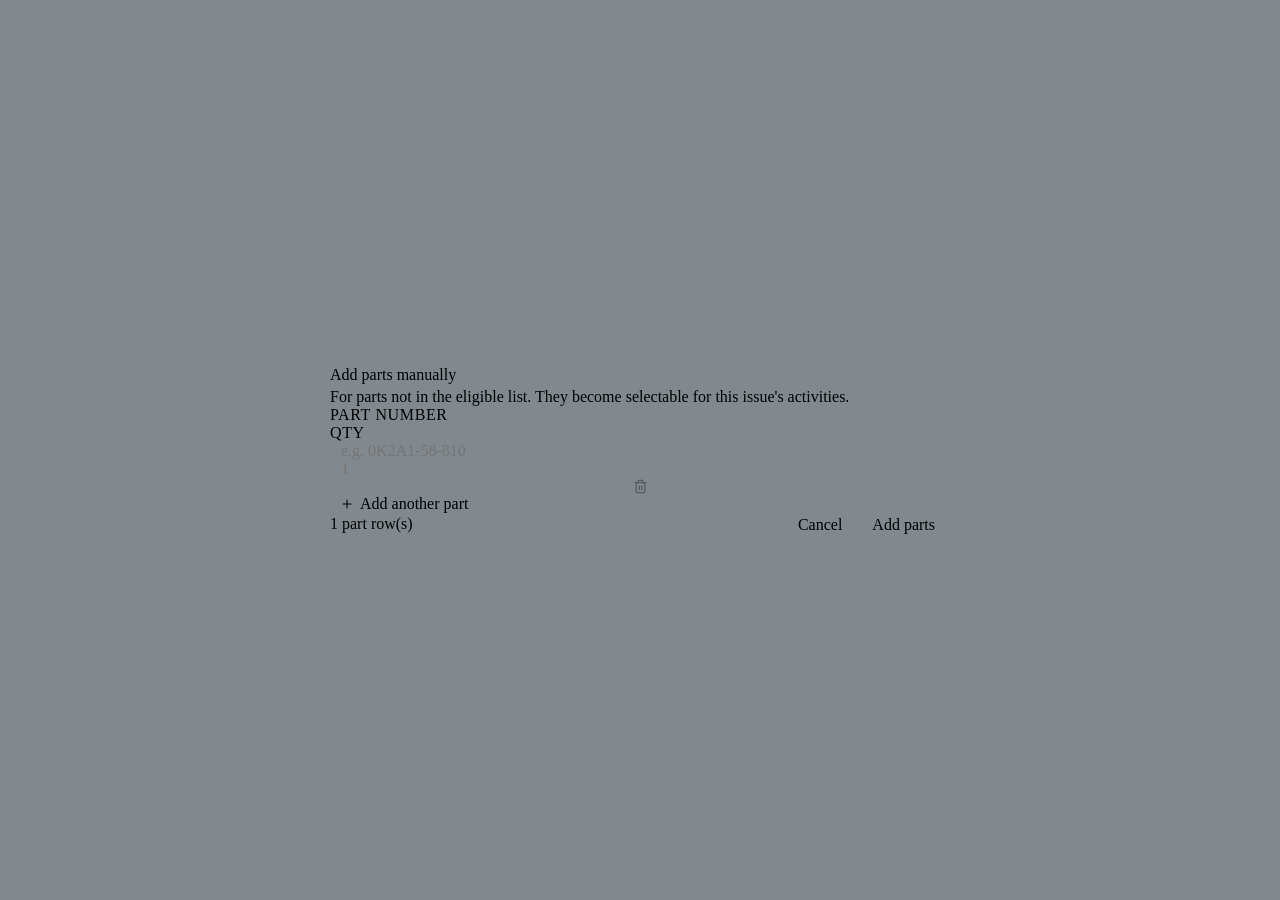
it: the wrappers capture the columns their field needs › a part with no quantity is refused — the column is required
In the field named "Part number 1": (640, 450) [330, 442, 950, 460], type "AA-1"
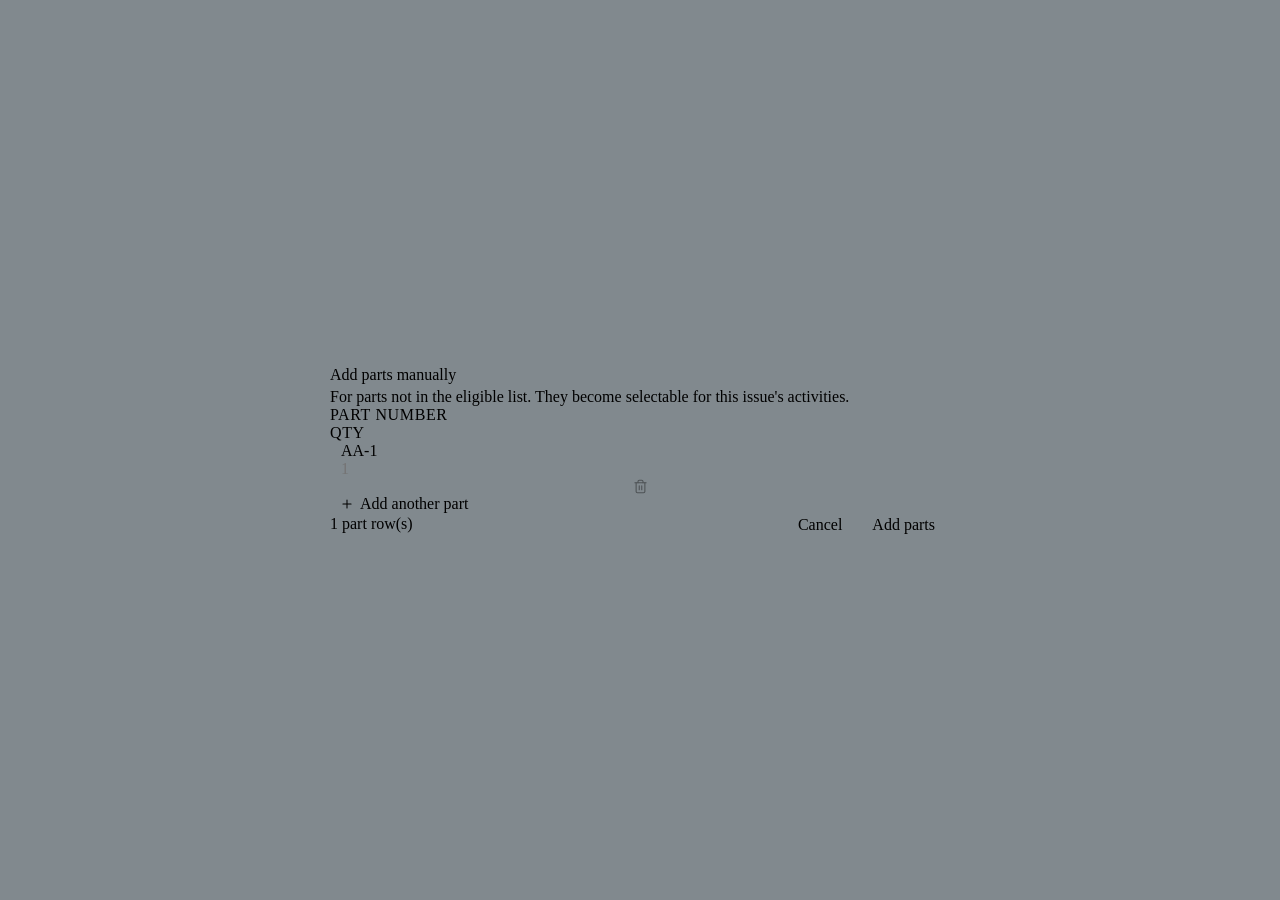
Click the button with test id "multi-row-submit": (904, 524) [857, 514, 950, 534]
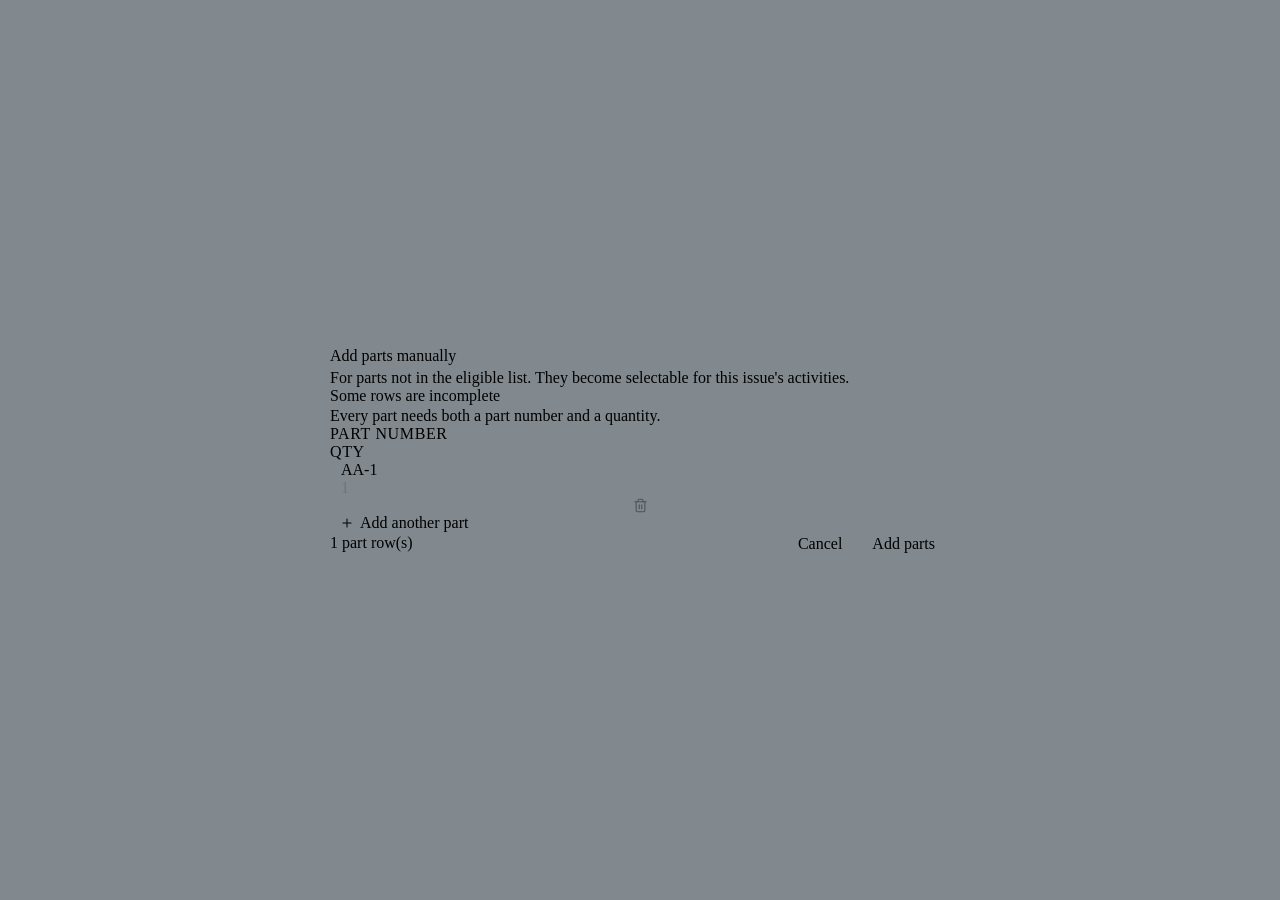
Expected: the message "Some rows are incomplete Every part needs both a part number and a quantity." is shown, [330, 386, 660, 424]
